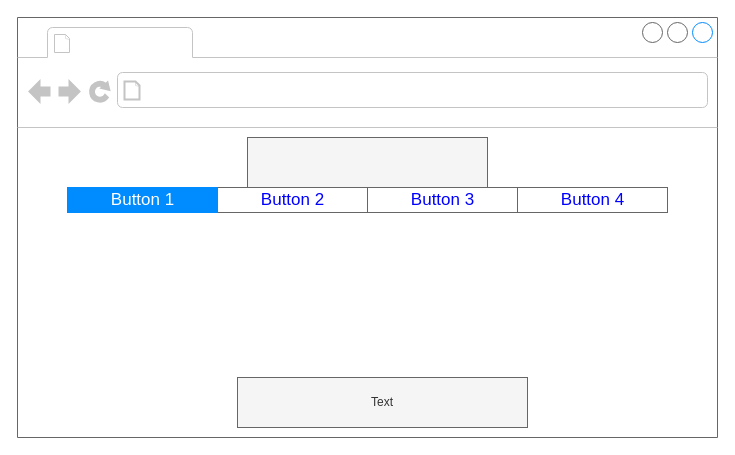
This 735x455 diagram has some shape labels left out. Each missing label, with the centre of its shape:
"https://www.draw.io" goes at pixel 272 90.
"Page 1" goes at pixel 132 42.
"Title" goes at pixel 367 162.
